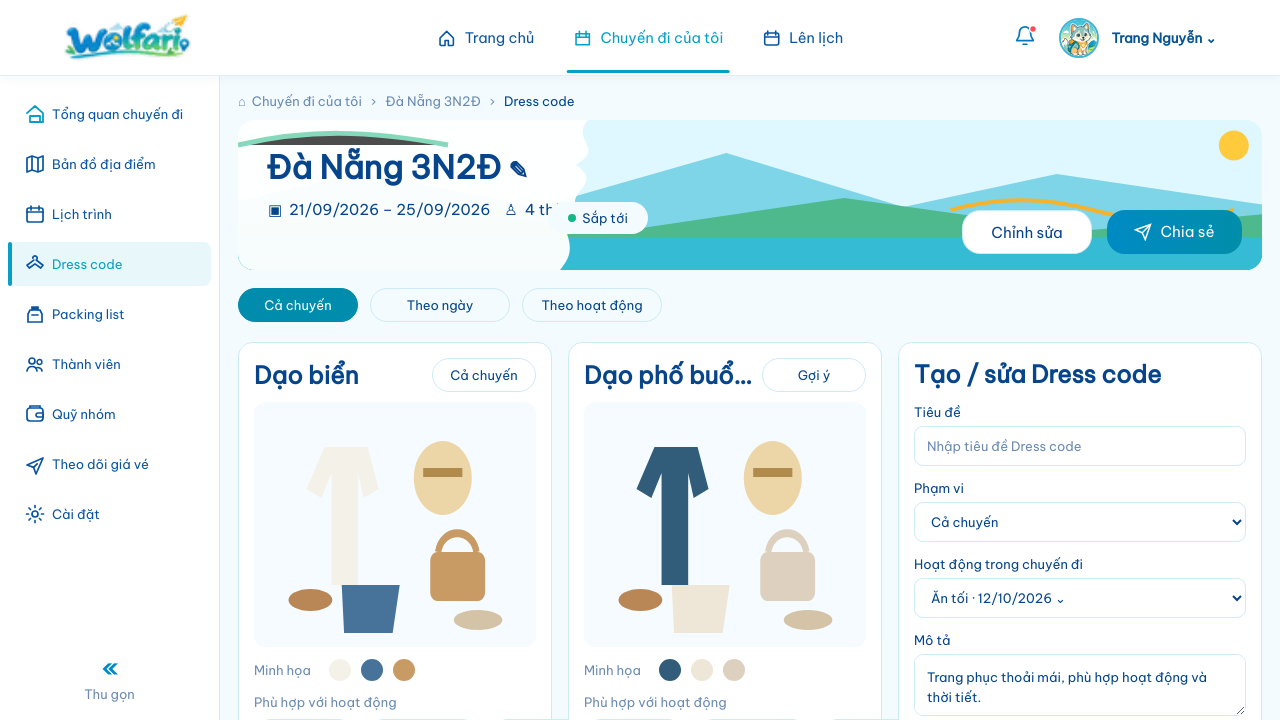
Test: new trip workspace routes › shows an empty Dress Code scope without leaking cards from other scopes
Click the tab "Theo hoạt động": (592, 305) [522,288,662,322]
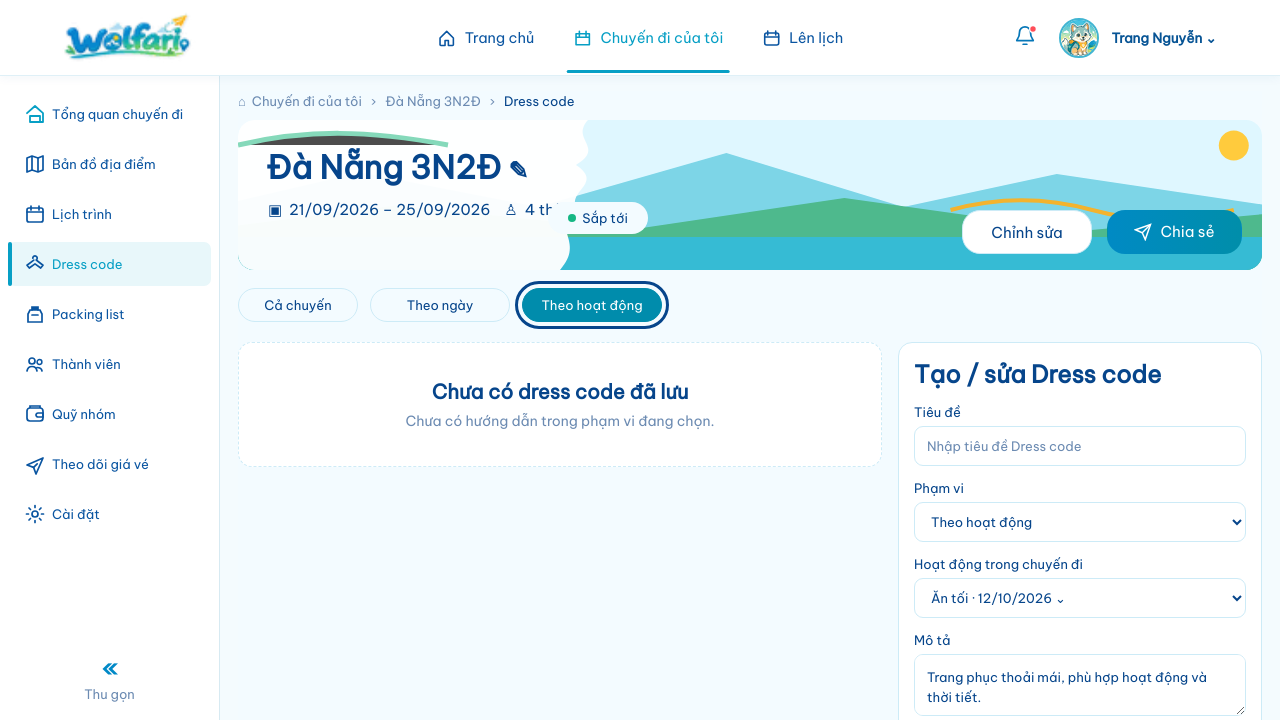
Check: the heading "Chưa có dress code đã lưu" is shown, box [432,379,688,404]
